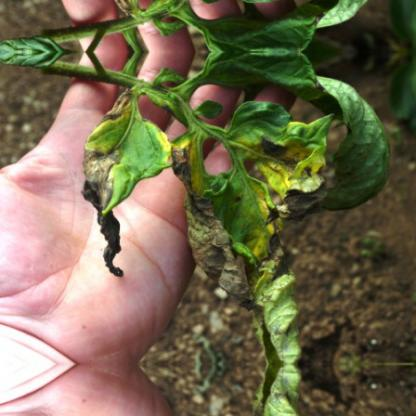Early-Blight: (84, 60, 386, 358)
